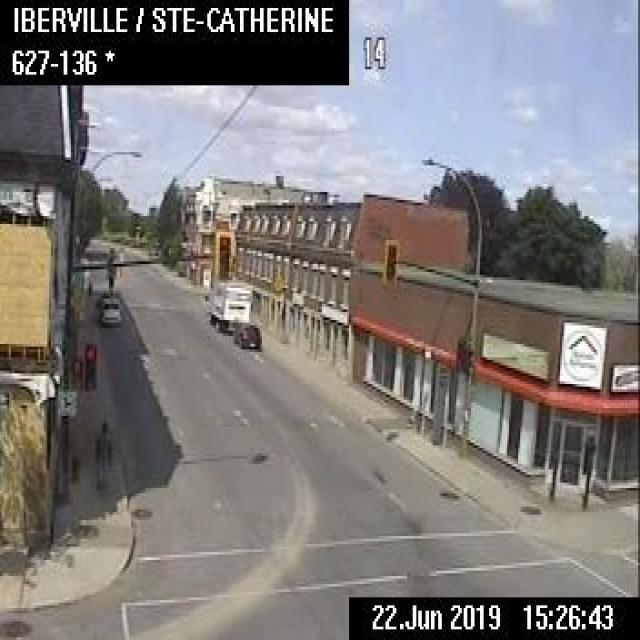pedestrian: (92, 419, 112, 491)
vehicle: (203, 277, 251, 332), (232, 320, 260, 348), (98, 295, 121, 323)
